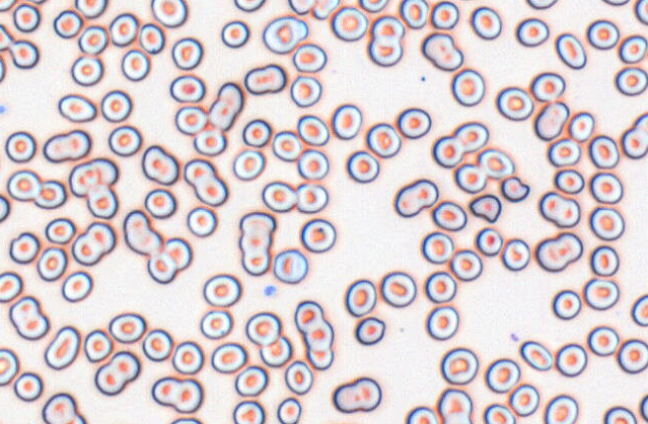PLT: (263, 284, 277, 299), (0, 104, 6, 116)
RBC: (238, 211, 276, 275), (146, 236, 192, 284), (94, 350, 141, 396), (183, 158, 228, 206), (71, 221, 116, 266), (68, 157, 118, 197), (535, 231, 583, 272), (151, 376, 203, 413), (331, 376, 381, 413), (8, 295, 49, 340), (122, 209, 161, 255), (262, 15, 308, 54), (207, 81, 243, 130), (393, 178, 438, 217), (42, 129, 91, 163), (43, 325, 80, 370), (421, 32, 463, 71), (141, 144, 179, 185), (538, 191, 580, 228), (439, 347, 478, 385), (243, 63, 286, 95), (534, 101, 569, 140), (495, 86, 534, 121), (380, 270, 416, 307), (450, 68, 485, 106), (202, 273, 241, 307), (272, 248, 308, 284), (436, 388, 473, 423), (331, 6, 368, 41), (344, 278, 377, 317), (245, 311, 281, 346), (484, 358, 520, 393), (300, 218, 336, 253), (366, 122, 401, 158), (589, 206, 625, 241), (583, 277, 619, 310), (41, 392, 79, 423), (108, 312, 146, 343), (85, 184, 118, 219), (426, 305, 459, 340), (261, 180, 297, 212), (210, 342, 247, 373), (477, 148, 514, 179), (555, 32, 586, 69), (57, 93, 96, 122), (171, 340, 204, 374), (346, 150, 380, 183), (6, 169, 41, 201), (555, 342, 587, 377), (107, 124, 142, 156), (453, 121, 489, 152), (431, 200, 467, 231), (331, 103, 362, 139), (421, 231, 454, 264), (589, 172, 623, 204), (470, 6, 502, 40), (36, 246, 67, 281), (530, 71, 565, 102), (617, 338, 647, 374), (259, 335, 292, 367), (507, 383, 539, 416), (141, 328, 173, 361), (8, 231, 40, 264), (232, 149, 265, 181), (424, 271, 457, 303), (4, 130, 36, 163), (289, 75, 322, 107), (296, 114, 329, 146), (100, 89, 132, 122), (453, 162, 487, 193), (234, 365, 268, 396), (519, 340, 553, 371), (397, 107, 431, 138), (588, 134, 619, 168), (368, 36, 403, 66), (284, 359, 313, 395), (169, 74, 205, 103), (150, 0, 188, 27), (61, 270, 93, 302), (450, 249, 482, 281), (297, 148, 329, 180), (432, 135, 463, 168), (295, 182, 328, 213), (171, 37, 202, 70), (586, 19, 619, 50), (192, 126, 226, 156), (547, 137, 581, 167), (108, 12, 138, 46), (515, 17, 549, 47), (144, 188, 176, 219), (587, 325, 619, 356), (70, 57, 103, 87), (294, 300, 324, 333), (33, 179, 66, 209), (199, 309, 232, 339), (174, 105, 207, 135), (614, 66, 647, 96), (544, 394, 578, 423), (292, 43, 326, 72), (186, 206, 217, 237), (271, 130, 302, 161), (120, 49, 150, 81), (83, 329, 112, 362), (501, 238, 530, 271), (13, 371, 43, 402), (9, 39, 39, 69), (78, 25, 108, 55), (354, 316, 385, 345), (552, 289, 581, 320), (590, 245, 619, 276), (399, 0, 429, 29), (138, 22, 165, 54), (621, 126, 647, 159), (371, 15, 405, 40), (53, 9, 82, 38), (242, 118, 271, 147), (430, 0, 459, 29), (618, 34, 647, 63), (44, 217, 75, 244), (475, 227, 503, 256), (12, 3, 40, 32), (220, 20, 249, 48), (568, 111, 594, 142), (554, 168, 584, 194), (232, 400, 265, 423), (0, 347, 19, 386), (0, 270, 23, 302), (482, 403, 516, 423), (276, 397, 302, 423), (307, 347, 334, 370), (603, 405, 637, 423), (405, 405, 438, 423), (74, 0, 107, 18), (630, 293, 647, 326), (312, 0, 340, 19), (287, 0, 315, 15), (233, 0, 265, 12), (358, 0, 389, 12), (0, 23, 13, 51), (633, 112, 647, 135), (635, 0, 647, 24), (526, 0, 558, 9), (0, 194, 10, 222), (65, 413, 86, 424), (169, 416, 202, 423), (640, 394, 648, 422), (0, 0, 16, 11), (0, 55, 6, 82), (602, 0, 629, 6), (25, 0, 47, 4)
Schistocyte: (470, 194, 503, 223), (502, 176, 531, 204)
